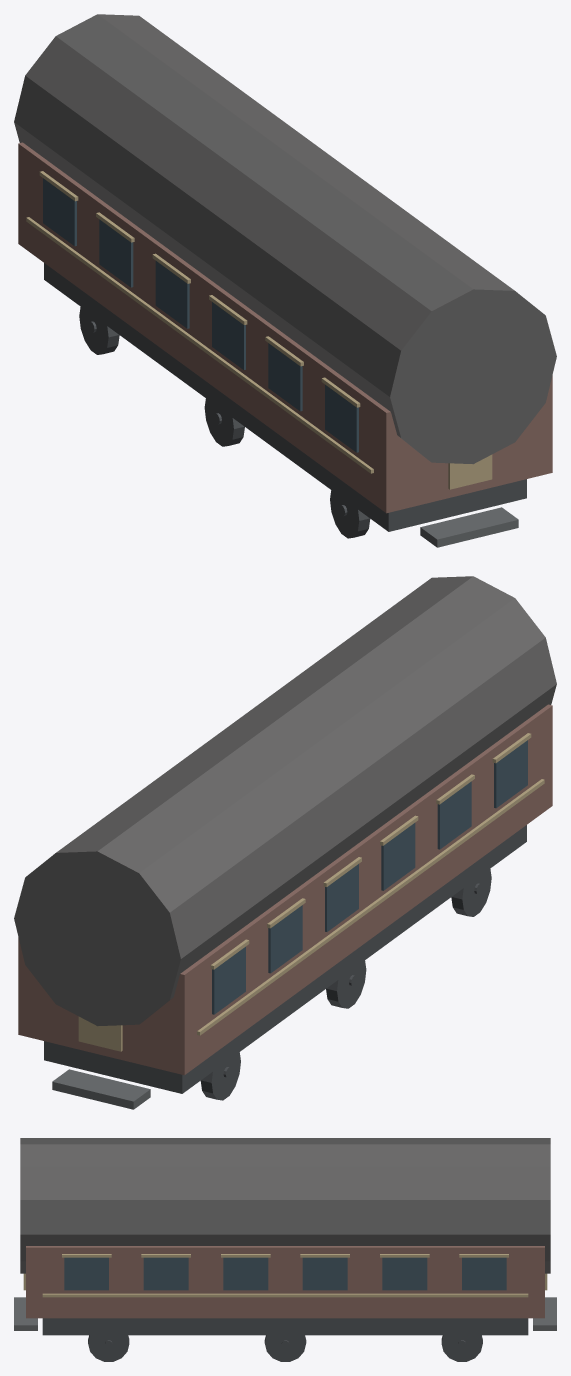
The model's file is highland_chariot_6wheel_coach.glb.
3 views of the same model, one above another, from view 1: azimuth 30°, elevation 25°; view 2: azimuth 150°, elevation 25°; view 3: azimuth 270°, elevation 25° (orthographic). The views are drawn at different scales.
Visible parts, largest first — view 1: coach_roof, coach_body, underframe, waistline_L, end_step_4.888, window_L_4, window_L_2, window_L_1, window_L_5, window_L_0, window_L_3, wheel_coach_L_1 (+3 smaller); view 2: coach_roof, coach_body, underframe, waistline_L, end_step_-4.888, window_L_1, window_L_3, window_L_4, window_L_0, window_L_2, window_L_5, wheel_coach_L_1 (+3 smaller); view 3: coach_roof, coach_body, underframe, waistline_R, window_R_1, window_R_2, window_R_3, window_R_4, window_R_0, window_R_5, wheel_coach_R_0, wheel_coach_R_1 (+3 smaller).
Part boxes in pixels (bbox=[...]): coach_roof: bbox=[14, 14, 556, 464]; coach_body: bbox=[18, 142, 552, 513]; underframe: bbox=[44, 263, 526, 531]; waistline_L: bbox=[26, 217, 373, 473]; end_step_4.888: bbox=[420, 507, 518, 547]; window_L_4: bbox=[268, 343, 302, 411]; window_L_2: bbox=[155, 261, 189, 328]; window_L_1: bbox=[99, 219, 133, 287]; window_L_5: bbox=[325, 384, 358, 452]; window_L_0: bbox=[43, 178, 76, 246]; window_L_3: bbox=[212, 302, 245, 369]; wheel_coach_L_1: bbox=[204, 398, 244, 446]; coach_roof: bbox=[14, 576, 556, 1026]; coach_body: bbox=[18, 704, 552, 1075]; underframe: bbox=[44, 825, 526, 1093]; waistline_L: bbox=[197, 779, 544, 1035]; end_step_-4.888: bbox=[52, 1069, 150, 1109]; window_L_1: bbox=[268, 905, 302, 973]; window_L_3: bbox=[381, 823, 415, 890]; window_L_4: bbox=[437, 781, 471, 849]; window_L_0: bbox=[212, 946, 245, 1014]; window_L_2: bbox=[325, 864, 358, 931]; window_L_5: bbox=[494, 740, 527, 808]; wheel_coach_L_1: bbox=[326, 960, 366, 1008]; coach_roof: bbox=[20, 1138, 550, 1273]; coach_body: bbox=[26, 1246, 544, 1318]; underframe: bbox=[42, 1318, 528, 1335]; waistline_R: bbox=[42, 1293, 528, 1297]; window_R_1: bbox=[382, 1257, 427, 1290]; window_R_2: bbox=[302, 1257, 347, 1290]; window_R_3: bbox=[223, 1257, 268, 1290]; window_R_4: bbox=[143, 1257, 188, 1290]; window_R_0: bbox=[462, 1257, 506, 1290]; window_R_5: bbox=[64, 1257, 108, 1290]; wheel_coach_R_0: bbox=[441, 1335, 482, 1361]; wheel_coach_R_1: bbox=[264, 1335, 306, 1361].
Bounding box in the file's own units: 2.67 × 4.05 × 10.23.
